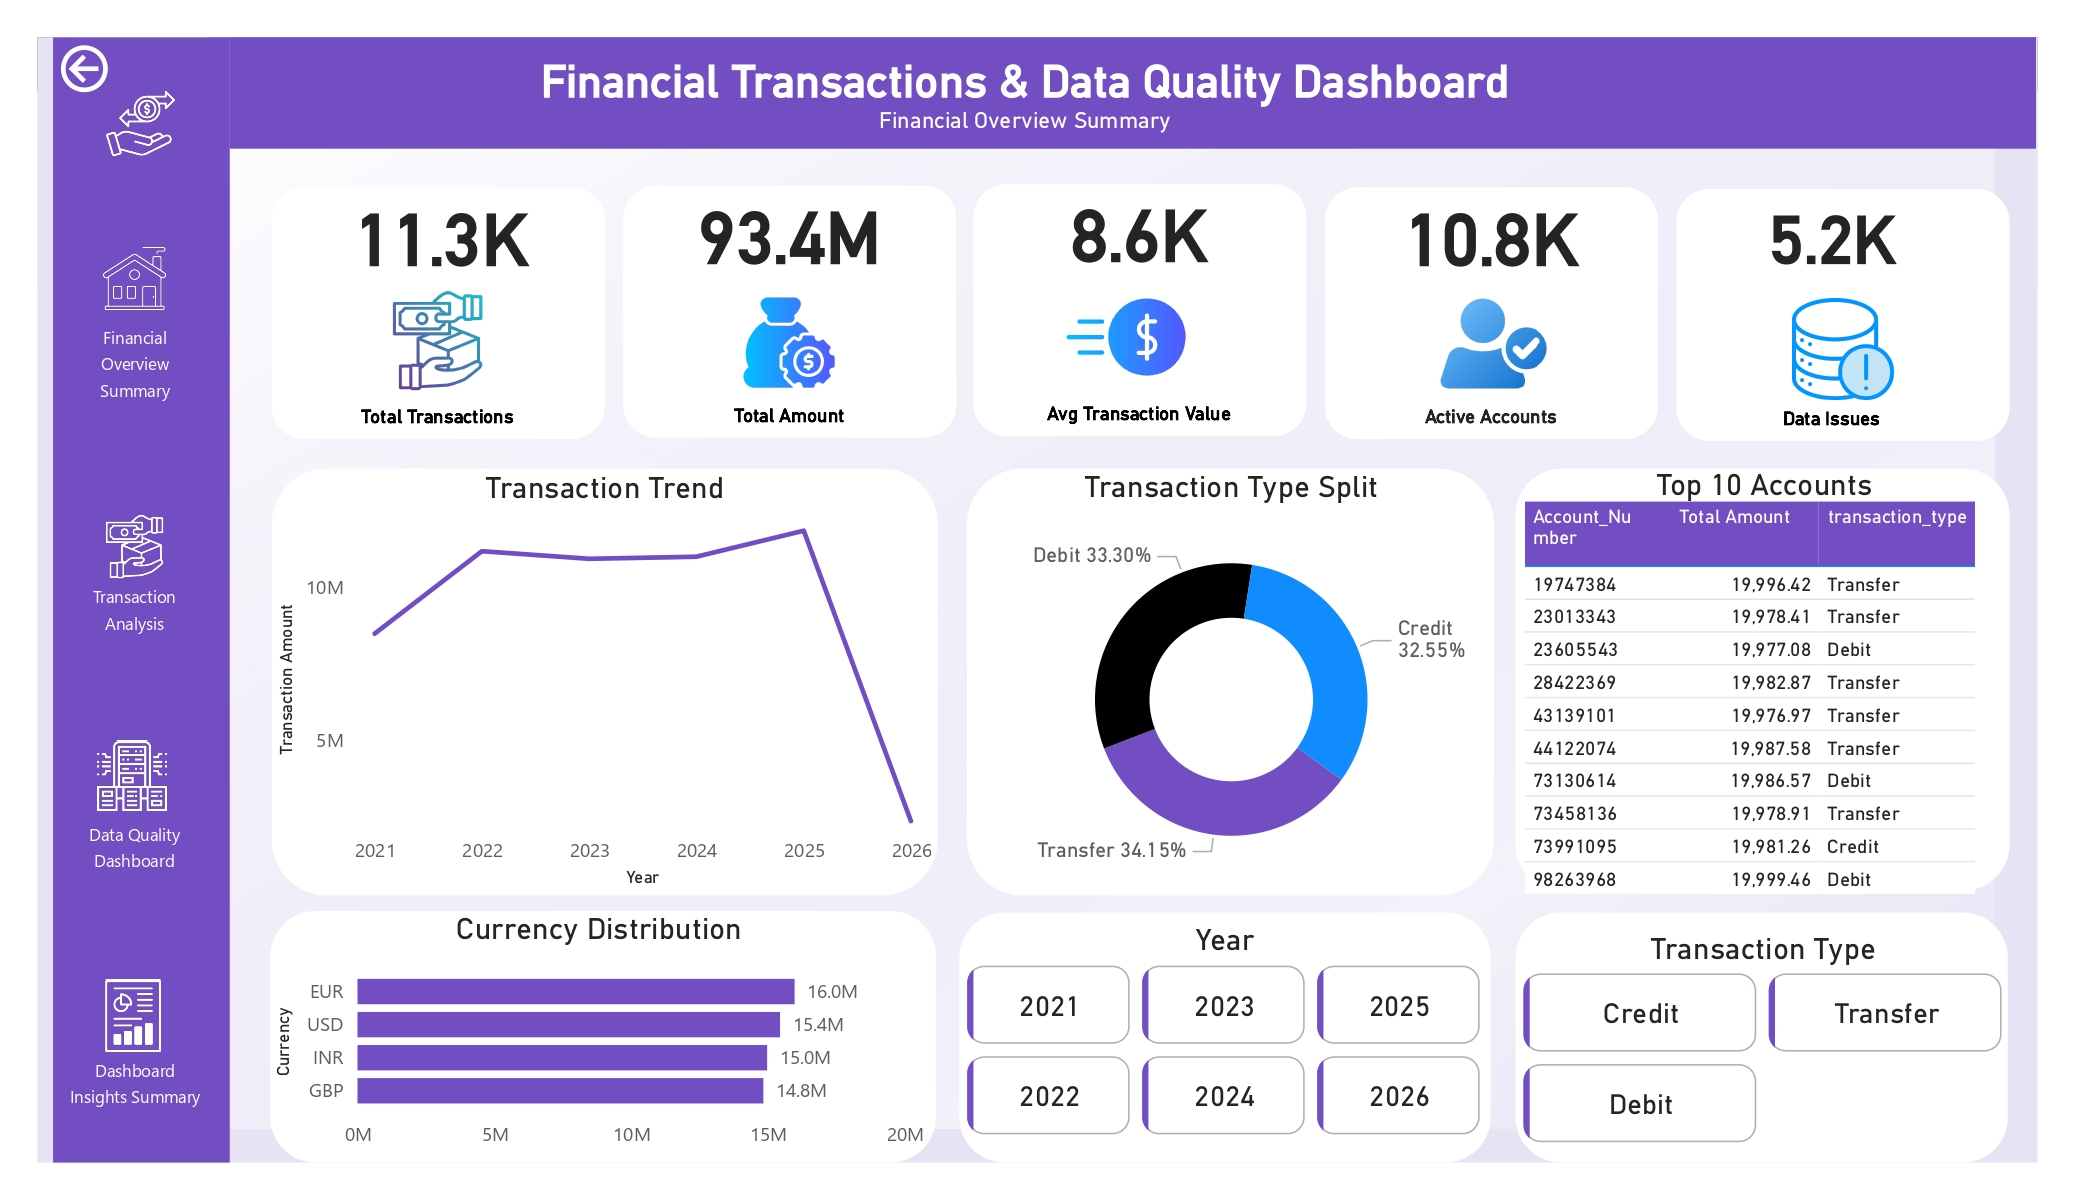

Layout of this report page (visuals, bound fields, positions):
{"tool":"powerbi","page":{"name":"Financial Overview Summary","canvas":[1280,720],"ordinal":0},"visuals":[{"type":"shape","box":[945.7,560,315.7,160],"z":0},{"type":"shape","box":[590,560,340,160],"z":1000},{"type":"shape","box":[149.8,276.2,426,272.3],"z":2000},{"type":"image","box":[35.4,115.4,53.9,77.1],"z":3000,"group":"g16"},{"type":"shape","box":[594.6,276.4,337.6,272.3],"z":3000},{"type":"image","box":[38.9,28.2,54.5,54.5],"z":4000,"group":"g13"},{"type":"shape","box":[946.4,276.2,316.1,269.4],"z":4000},{"type":"image","box":[34.1,445.9,55.1,55.1],"z":4000,"group":"g15"},{"type":"group","id":"g1","title":"Group 3","box":[599.3,77.8,213,179.9],"z":5000},{"type":"image","box":[34.9,299.3,54.5,54.5],"z":5000,"group":"g14"},{"type":"shape","box":[110.1,0,1168.9,71.1],"z":5500,"group":"g17"},{"type":"group","id":"g2","title":"Group 3","box":[1048.5,80.8,213,179.9],"z":6000},{"type":"textbox","box":[15.1,177.3,94.9,65],"z":6000,"group":"g16"},{"type":"textbox","box":[15.4,646.5,94.9,65],"z":6000,"group":"g4"},{"type":"textbox","box":[127.3,6,1010.3,65.1],"z":7000,"group":"g17"},{"type":"group","id":"g3","title":"Group 3","box":[150.1,80,213,180.2],"z":7000},{"type":"shape","box":[599.3,93.4,213,161.5],"z":7000,"group":"g1"},{"type":"shape","box":[374.7,94.6,213,161.5],"z":7000,"group":"g5"},{"type":"shape","box":[823.8,95.4,213,161.5],"z":7000,"group":"g6"},{"type":"shape","box":[150.1,95.8,213,161.5],"z":7000,"group":"g3"},{"type":"shape","box":[1048.5,96.4,213,161.5],"z":7000,"group":"g2"},{"type":"group","id":"g4","title":"Group 9","box":[15.4,646.5,94.9,65],"z":7000,"group":"g18"},{"type":"group","id":"g5","title":"Group 3","box":[374.7,79,213,179.9],"z":8000},{"type":"card","fields":{"Values":["Table.Average Transaction Value"]},"box":[609.7,77.8,191.6,87.5],"z":9000,"group":"g7"},{"type":"card","fields":{"Values":["Table.Total Revenue/Amount"]},"box":[384.6,79,191.6,87.5],"z":9000,"group":"g8"},{"type":"group","id":"g6","title":"Group 3","box":[823.8,79.8,213,179.9],"z":9000},{"type":"card","fields":{"Values":["Table.Active Accounts"]},"box":[834.2,79.8,191.6,87.5],"z":9000,"group":"g9"},{"type":"card","fields":{"Values":["Table.Total Transactions"]},"box":[164.9,80,185.8,87.5],"z":9000,"group":"g10"},{"type":"card","fields":{"Values":["Table.Data Issue Count"]},"box":[1051.1,80.8,191.6,87.5],"z":9000,"group":"g11"},{"type":"image","box":[636.1,146.9,119.6,88.5],"z":10000},{"type":"image","box":[202.1,155.1,108.5,77.8],"z":10000,"group":"g10"},{"type":"textbox","box":[14.4,343,95.9,45.9],"z":10000,"group":"g14"},{"type":"image","box":[891.9,145.9,79.8,99.2],"z":11000},{"type":"textbox","box":[610.4,225.6,190.2,32.1],"z":11000,"group":"g7"},{"type":"textbox","box":[385.3,226.8,190.2,32.1],"z":11000,"group":"g8"},{"type":"textbox","box":[834.9,227.6,190.2,32.1],"z":11000,"group":"g9"},{"type":"textbox","box":[161.2,228.1,190.2,32.1],"z":11000,"group":"g10"},{"type":"textbox","box":[1051.8,228.6,190.2,32.1],"z":11000,"group":"g11"},{"type":"textbox","box":[14.7,495.9,95.9,45.9],"z":11000,"group":"g15"},{"type":"group","id":"g7","title":"Group 2","box":[609.7,77.8,191.6,179.9],"z":11001,"group":"g1"},{"type":"group","id":"g8","title":"Group 2","box":[384.6,79,191.6,179.9],"z":11001,"group":"g5"},{"type":"group","id":"g9","title":"Group 2","box":[834.2,79.8,191.6,179.9],"z":11001,"group":"g6"},{"type":"group","id":"g10","title":"Group 2","box":[161.2,80,190.2,180.2],"z":11001,"group":"g3"},{"type":"group","id":"g11","title":"Group 2","box":[1051.1,80.8,191.6,179.9],"z":11001,"group":"g2"},{"type":"image","box":[1082.6,167.3,145.9,66.1],"z":12000},{"type":"image","box":[426.4,156.6,108,76.8],"z":13000,"group":"g8"},{"type":"lineChart","title":"Transaction Trend","fields":{"Y":["Sum(Cleaned_Finance_Data.transaction_amount)"],"Category":["Cleaned_Finance_Data.transaction_date_clean.Variation.Date Hierarchy.Year"]},"box":[149.4,276.6,427.3,271.4],"z":13000},{"type":"advancedSlicerVisual","fields":{"Values":["Cleaned_Finance_Data.transaction_date_clean.Variation.Date Hierarchy.Year"]},"box":[590,560,340,147.1],"z":14000},{"type":"shape","box":[149.3,559.5,425.5,160.1],"z":15000},{"type":"image","box":[28.2,598.7,65.4,56.4],"z":15009,"group":"g18"},{"type":"donutChart","title":"Transaction Type Split","fields":{"Y":["CountNonNull(Cleaned_Finance_Data.transaction_type)"],"Category":["Cleaned_Finance_Data.transaction_type"]},"box":[595.6,276.4,336.6,272.3],"z":16000},{"type":"barChart","title":"Currency Distribution","fields":{"Category":["Cleaned_Finance_Data.currency"],"Y":["Table.Total Revenue/Amount"]},"box":[146.6,559.5,425.5,160.1],"z":17000},{"type":"advancedSlicerVisual","title":"Transaction Type","fields":{"Values":["Cleaned_Finance_Data.transaction_type"]},"box":[945.7,565.7,317.1,147.1],"z":18000},{"type":"tableEx","title":"Top 10 Accounts","fields":{"Values":["Cleaned_Finance_Data.account_number","Sum(Cleaned_Finance_Data.transaction_amount)","Cleaned_Finance_Data.transaction_type"]},"box":[946.4,275.4,317.4,284.1],"z":19000},{"type":"group","id":"g12","title":"Group 1","box":[110.1,0,1168.9,71.1],"z":20000},{"type":"shape","title":"FINANCE","box":[9.7,0,112.8,719.8],"z":21000},{"type":"actionButton","box":[10.2,0,100,39.8],"z":22000},{"type":"group","id":"g13","title":"Group 5","box":[38.9,28.2,54.5,54.5],"z":23000},{"type":"group","id":"g14","title":"Group 7","box":[14.4,299.3,95.9,89.6],"z":24000,"group":"g19"},{"type":"group","id":"g15","title":"Group 8","box":[14.7,445.9,95.9,95.9],"z":25000,"group":"g19"},{"type":"group","id":"g16","title":"Group 9","box":[15.1,115.4,94.9,126.9],"z":26000,"group":"g19"},{"type":"group","id":"g17","title":"Group 4","box":[110.1,0,1168.9,71.1],"z":26001,"group":"g12"},{"type":"group","id":"g18","title":"Group 1","box":[15.4,598.7,94.9,112.8],"z":27000,"group":"g19"},{"type":"group","id":"g19","title":"Group 6","box":[14.4,115.4,96.2,596.2],"z":27001}]}

Visuals, with their boxes on the page's 1280x720 design canvas (x1, y1, x2, y2). These are canvas units, not pixel positions in the 2075x1200 screenshot, which may show the page scaled, cropped or inside an application window:
shape: select_region(946, 560, 1261, 720)
shape: select_region(590, 560, 930, 720)
shape: select_region(150, 276, 576, 548)
image: select_region(35, 115, 89, 192)
shape: select_region(595, 276, 932, 549)
image: select_region(39, 28, 93, 83)
shape: select_region(946, 276, 1262, 546)
image: select_region(34, 446, 89, 501)
"Group 3" group: select_region(599, 78, 812, 258)
image: select_region(35, 299, 89, 354)
shape: select_region(110, 0, 1279, 71)
"Group 3" group: select_region(1048, 81, 1262, 261)
textbox: select_region(15, 177, 110, 242)
textbox: select_region(15, 646, 110, 712)
textbox: select_region(127, 6, 1138, 71)
"Group 3" group: select_region(150, 80, 363, 260)
shape: select_region(599, 93, 812, 255)
shape: select_region(375, 95, 588, 256)
shape: select_region(824, 95, 1037, 257)
shape: select_region(150, 96, 363, 257)
shape: select_region(1048, 96, 1262, 258)
"Group 9" group: select_region(15, 646, 110, 712)
"Group 3" group: select_region(375, 79, 588, 259)
card - Table.Average Transaction Value: select_region(610, 78, 801, 165)
card - Table.Total Revenue/Amount: select_region(385, 79, 576, 166)
"Group 3" group: select_region(824, 80, 1037, 260)
card - Table.Active Accounts: select_region(834, 80, 1026, 167)
card - Table.Total Transactions: select_region(165, 80, 351, 168)
card - Table.Data Issue Count: select_region(1051, 81, 1243, 168)
image: select_region(636, 147, 756, 235)
image: select_region(202, 155, 311, 233)
textbox: select_region(14, 343, 110, 389)
image: select_region(892, 146, 972, 245)
textbox: select_region(610, 226, 801, 258)
textbox: select_region(385, 227, 576, 259)
textbox: select_region(835, 228, 1025, 260)
textbox: select_region(161, 228, 351, 260)
textbox: select_region(1052, 229, 1242, 261)
textbox: select_region(15, 496, 111, 542)
"Group 2" group: select_region(610, 78, 801, 258)
"Group 2" group: select_region(385, 79, 576, 259)
"Group 2" group: select_region(834, 80, 1026, 260)
"Group 2" group: select_region(161, 80, 351, 260)
"Group 2" group: select_region(1051, 81, 1243, 261)
image: select_region(1083, 167, 1228, 233)
image: select_region(426, 157, 534, 233)
"Transaction Trend" lineChart: select_region(149, 277, 577, 548)
advancedSlicerVisual - Cleaned_Finance_Data.transaction_date_clean.Variation.Date Hierarchy.Year: select_region(590, 560, 930, 707)
shape: select_region(149, 560, 575, 720)
image: select_region(28, 599, 94, 655)
"Transaction Type Split" donutChart: select_region(596, 276, 932, 549)
"Currency Distribution" barChart: select_region(147, 560, 572, 720)
"Transaction Type" advancedSlicerVisual: select_region(946, 566, 1263, 713)
"Top 10 Accounts" tableEx: select_region(946, 275, 1264, 560)
"Group 1" group: select_region(110, 0, 1279, 71)
"FINANCE" shape: select_region(10, 0, 122, 720)
actionButton: select_region(10, 0, 110, 40)
"Group 5" group: select_region(39, 28, 93, 83)
"Group 7" group: select_region(14, 299, 110, 389)
"Group 8" group: select_region(15, 446, 111, 542)
"Group 9" group: select_region(15, 115, 110, 242)
"Group 4" group: select_region(110, 0, 1279, 71)
"Group 1" group: select_region(15, 599, 110, 712)
"Group 6" group: select_region(14, 115, 111, 712)
